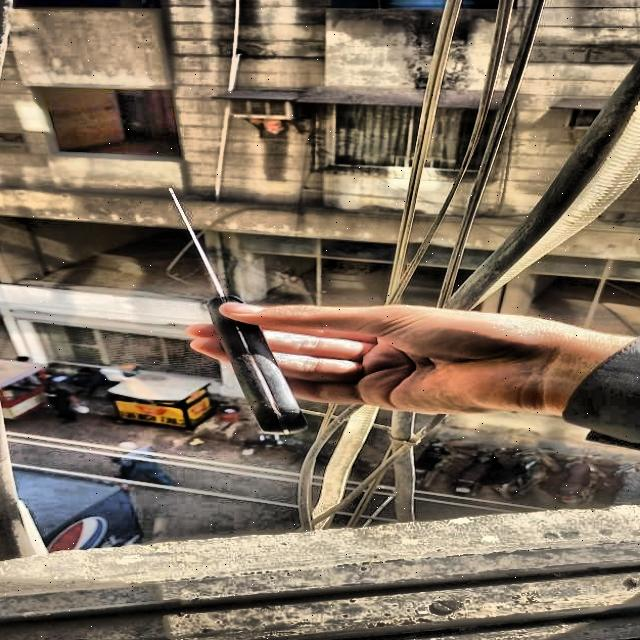knife: (172, 190, 306, 432)
